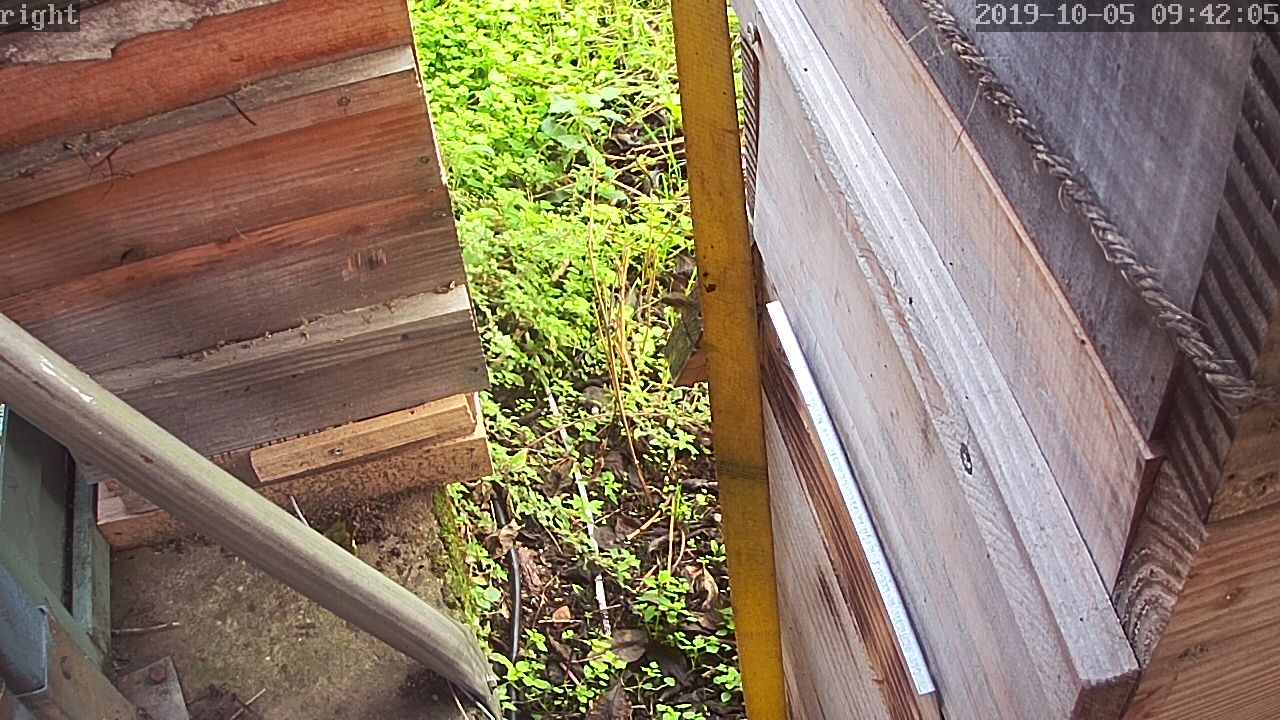hornet: (347, 240, 388, 281)
